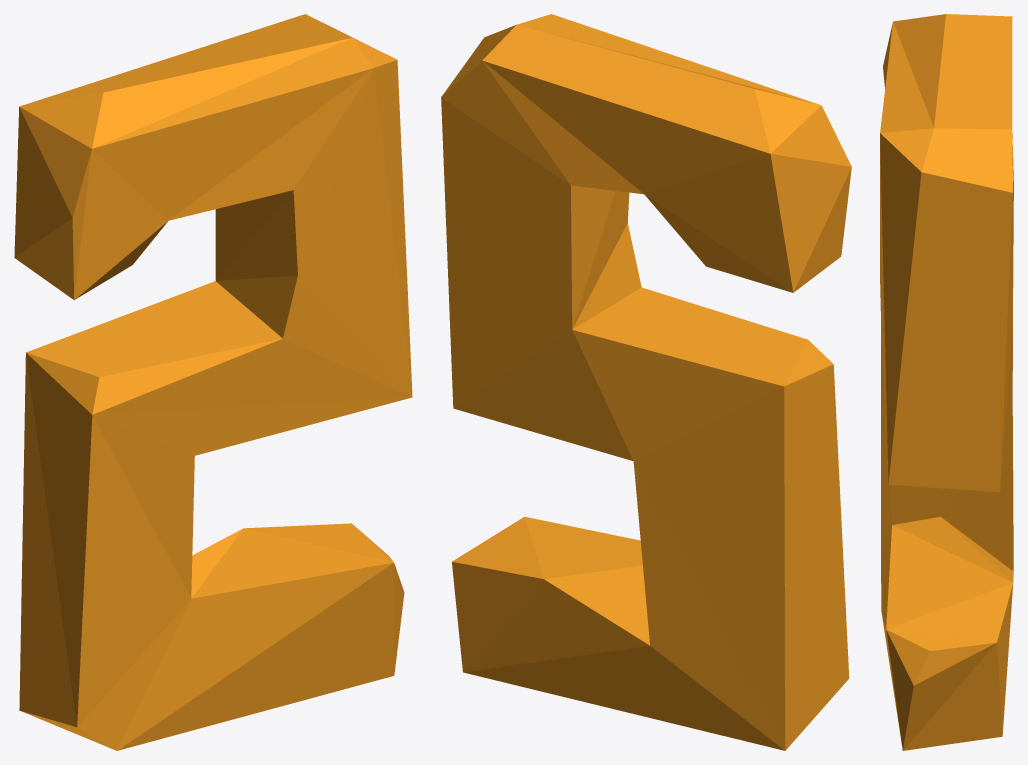
Rendered from SM_Icon_Number_2_01.fbx.
3 renders of one model, left to right at view 1: azimuth 30°, elevation 25°; view 2: azimuth 150°, elevation 25°; view 3: azimuth 270°, elevation 25°, orthographic. The views are drawn at different scales.
Parts seen in each view (by area): view 1: SM_Icon_Number_2_01; view 2: SM_Icon_Number_2_01; view 3: SM_Icon_Number_2_01.
Part boxes in pixels (x1,y1,x2,y2): SM_Icon_Number_2_01: (14,14,412,750); SM_Icon_Number_2_01: (441,14,851,750); SM_Icon_Number_2_01: (880,14,1013,750).
Size of the model in its own units: 30.75 by 53.41 by 10.61.
